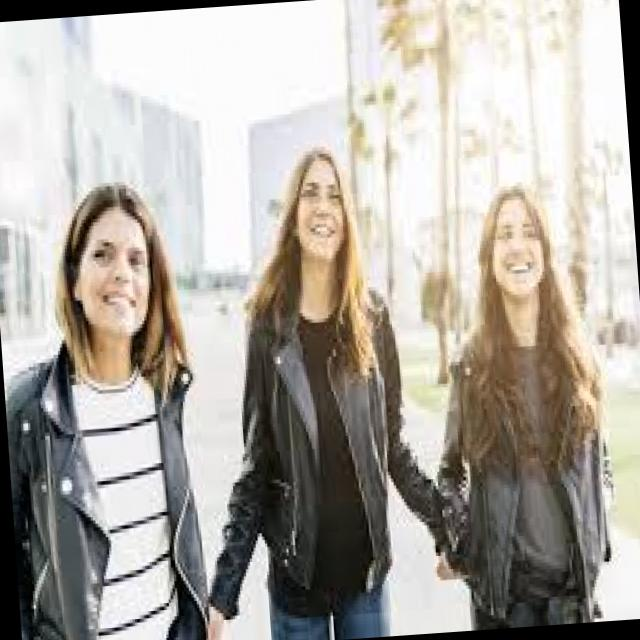Jacket: (210, 277, 436, 618), (412, 318, 632, 633), (4, 343, 225, 640)
